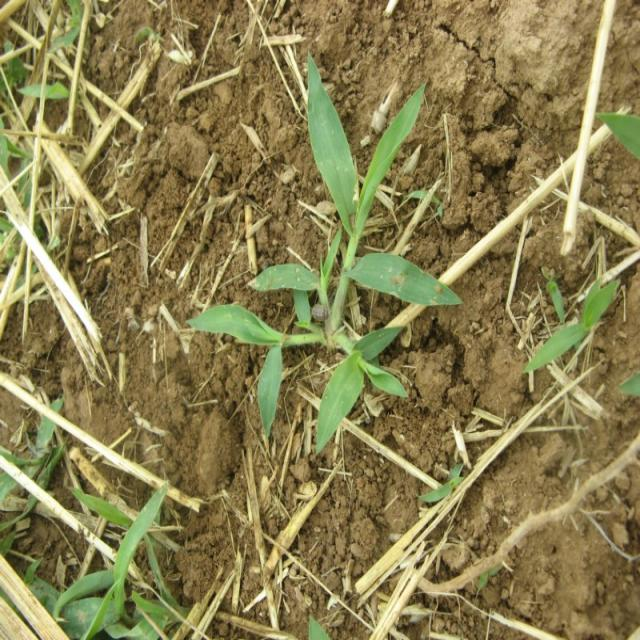bg: (188, 58, 461, 450)
